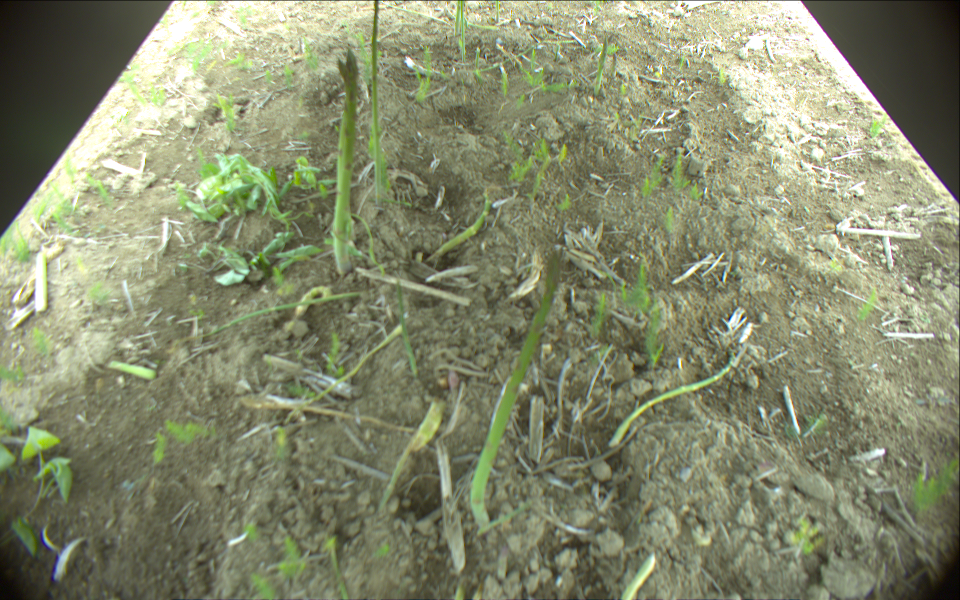aspa: (469, 253, 558, 526), (615, 352, 739, 448), (273, 330, 400, 406), (188, 290, 371, 340), (332, 52, 361, 277), (425, 187, 492, 259), (368, 1, 384, 205), (397, 278, 419, 376), (374, 1, 450, 24), (622, 556, 654, 600), (32, 252, 51, 315), (592, 34, 610, 95), (108, 361, 157, 380), (459, 1, 467, 61), (463, 20, 503, 32), (453, 1, 460, 35), (495, 1, 501, 22)
